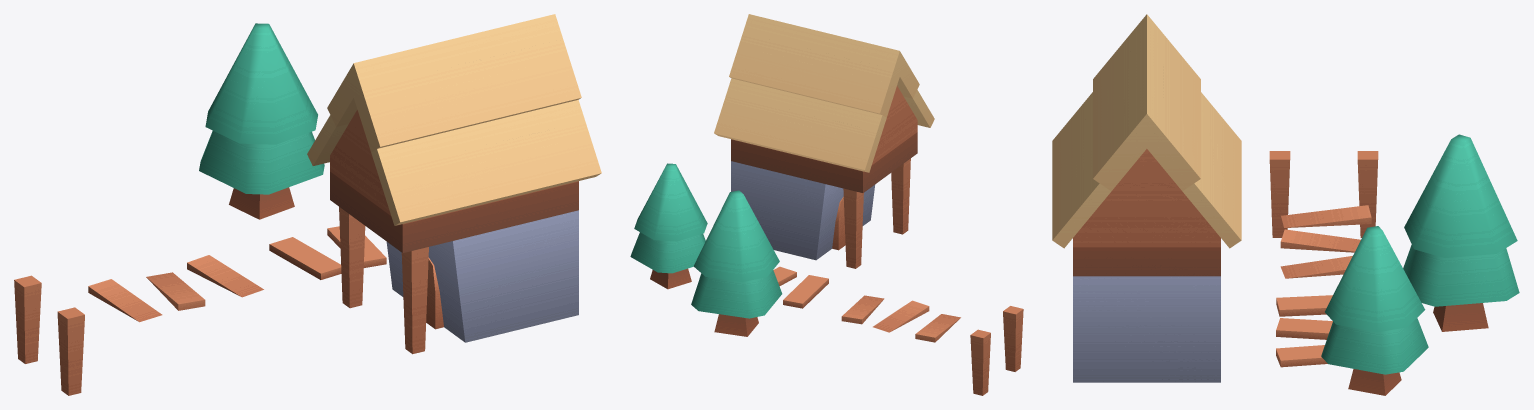
File: hx_building-port.glb
3 views of the same model, side by side, from view 1: azimuth 30°, elevation 25°; view 2: azimuth 150°, elevation 25°; view 3: azimuth 270°, elevation 25° (orthographic). The views are drawn at different scales.
Size of the model in its own units: 0.9277 by 0.6176 by 0.7967.
Materials: 1 (1 with a texture image).
